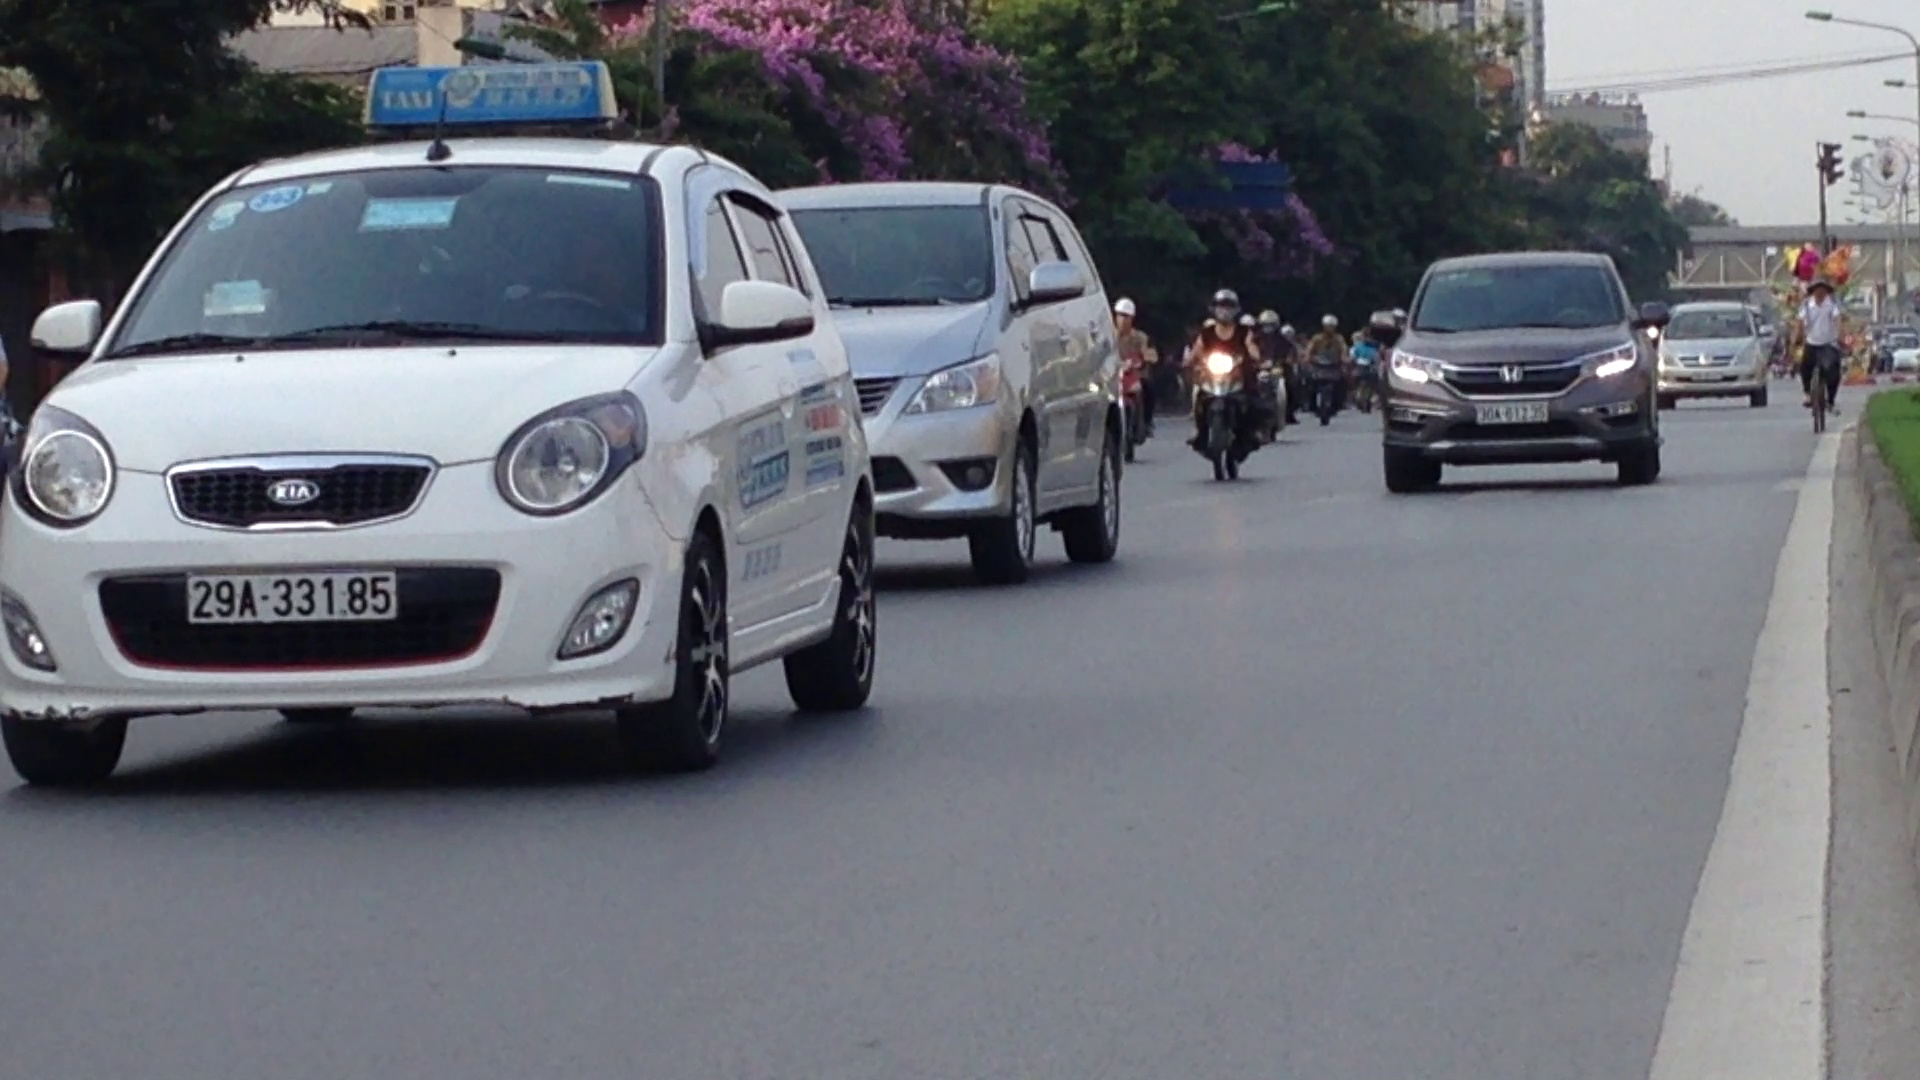person: (182, 569, 400, 624), (1471, 398, 1552, 426)
